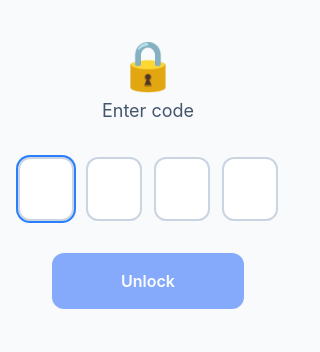
PinEntry › shows error alert and does not navigate on wrong PIN
Type "0" into the password field named "Digit 1 of 4".
click(46, 189); type("0")  # box [18,157,74,221]
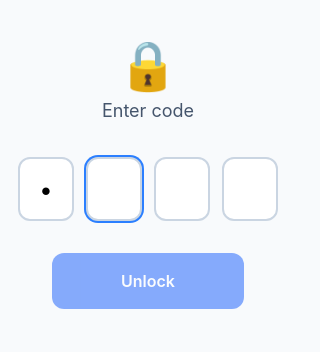
Type "0" into the password field named "Digit 2 of 4".
click(114, 189); type("0")  # box [86,157,142,221]
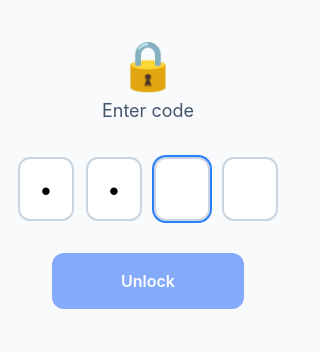
Type "0" into the password field named "Digit 3 of 4".
click(182, 189); type("0")  # box [154,157,210,221]
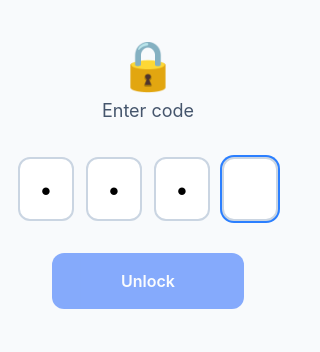
Type "0" into the password field named "Digit 4 of 4".
click(250, 189); type("0")  # box [222,157,278,221]
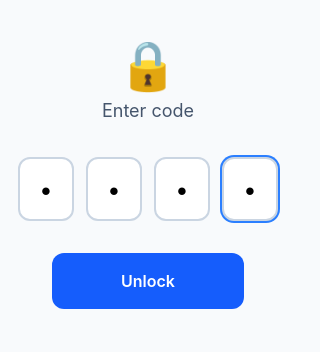
Click the button "Unlock".
click(148, 281)  # box [52,253,244,309]
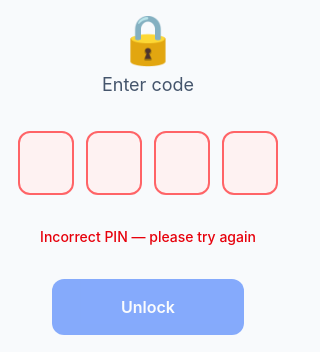
Check: the message "Incorrect PIN — please try again" is shown, box [40,227,256,247]
